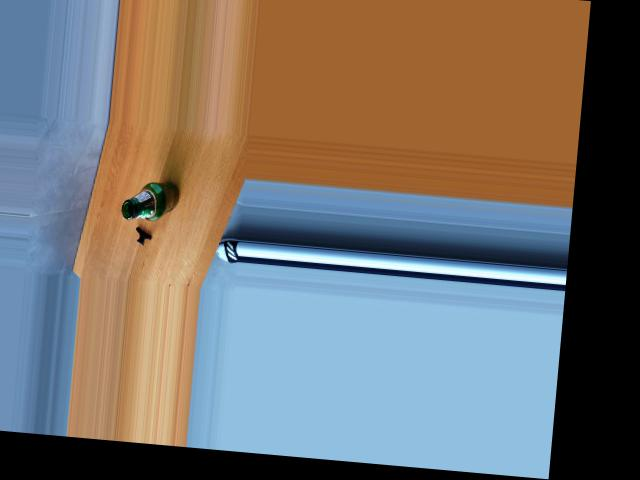beer: (121, 177, 181, 224)
